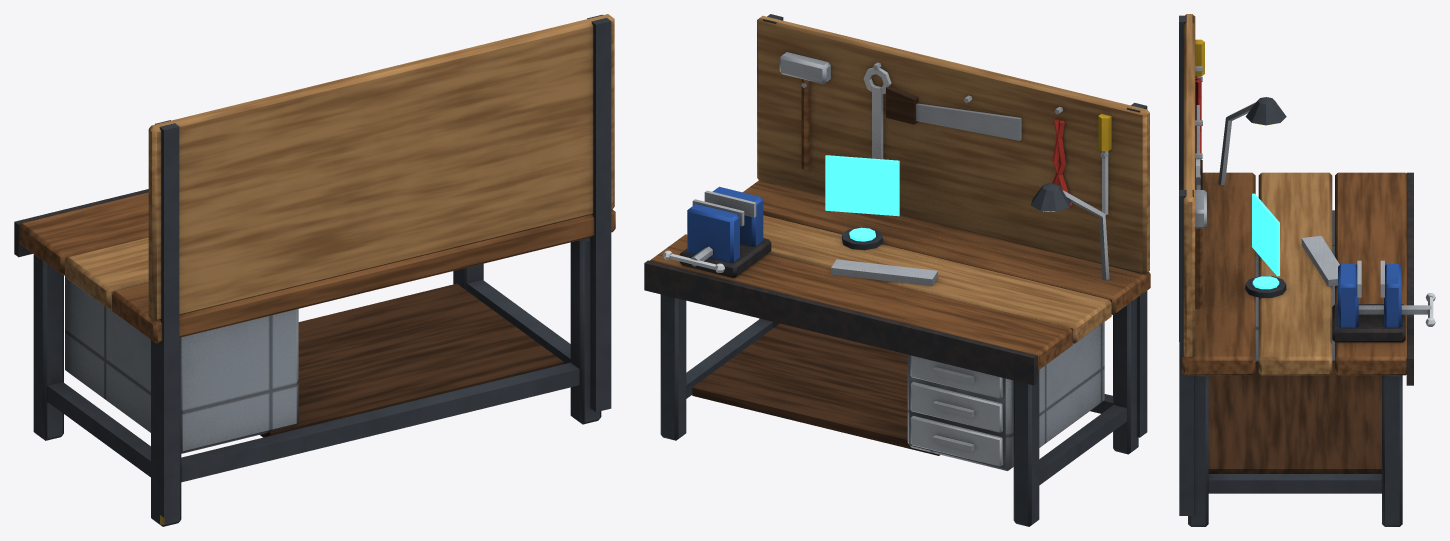
File: mesa_crafting.fbx
3 views of the same model, side by side, from view 1: azimuth 30°, elevation 25°; view 2: azimuth 150°, elevation 25°; view 3: azimuth 270°, elevation 25° (orthographic). The views are drawn at different scales.
Visible parts, largest first — view 1: mesa_crafting; view 2: mesa_crafting, mesa_crafting_plano_neon, mesa_crafting_mordaza, mesa_crafting_cajon_2, mesa_crafting_cajon_1, mesa_crafting_cajon_3; view 3: mesa_crafting, mesa_crafting_plano_neon, mesa_crafting_mordaza, mesa_crafting_neon.
Boxes of the visible parts, x1,y1,x2,y2 form: mesa_crafting: (14, 14, 615, 526); mesa_crafting: (644, 14, 1150, 526); mesa_crafting_plano_neon: (825, 155, 899, 216); mesa_crafting_mordaza: (663, 204, 739, 272); mesa_crafting_cajon_2: (910, 382, 1002, 432); mesa_crafting_cajon_1: (910, 415, 1002, 466); mesa_crafting_cajon_3: (910, 355, 1002, 398); mesa_crafting: (1179, 14, 1430, 526); mesa_crafting_plano_neon: (1252, 193, 1279, 276); mesa_crafting_mordaza: (1384, 264, 1435, 327); mesa_crafting_neon: (1252, 276, 1279, 289).
Size of the model in its own units: 3 by 2.5 by 1.75.
Materials: 2 (2 with a texture image).
